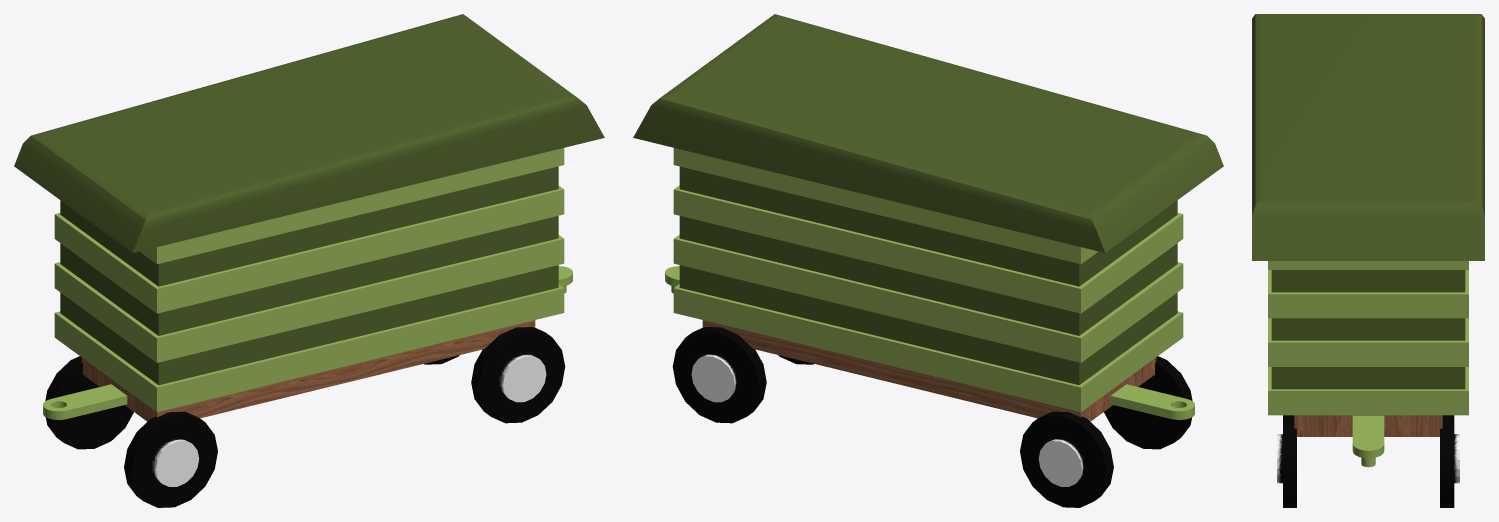
File: Cattle_Cart.fbx
3 views of the same model, side by side, from view 1: azimuth 30°, elevation 25°; view 2: azimuth 150°, elevation 25°; view 3: azimuth 270°, elevation 25° (orthographic).
Visible parts, largest first — view 1: Cattle_Cart_Roof1, Cattle_Cart_Walls1, Cattle_Cart_Wheel2, Cattle_Cart_Wheel3, Cart, Cattle_Cart_Wheel1; view 2: Cattle_Cart_Roof1, Cattle_Cart_Walls1, Cattle_Cart_Wheel1, Cattle_Cart_Wheel4, Cart, Cattle_Cart_Wheel2; view 3: Cattle_Cart_Roof1, Cattle_Cart_Walls1, Cart, Cattle_Cart_Wheel4, Cattle_Cart_Wheel3.
Part boxes in pixels (x1,y1,x2,y2): Cattle_Cart_Roof1: [14, 14, 604, 385]; Cattle_Cart_Walls1: [43, 148, 572, 419]; Cattle_Cart_Wheel2: [124, 411, 217, 507]; Cattle_Cart_Wheel3: [471, 327, 565, 423]; Cart: [81, 320, 535, 421]; Cattle_Cart_Wheel1: [45, 356, 133, 449]; Cattle_Cart_Roof1: [633, 14, 1223, 384]; Cattle_Cart_Walls1: [665, 148, 1194, 419]; Cattle_Cart_Wheel1: [1020, 411, 1113, 507]; Cattle_Cart_Wheel4: [672, 327, 766, 423]; Cart: [702, 320, 1156, 421]; Cattle_Cart_Wheel2: [1104, 356, 1192, 449]; Cattle_Cart_Roof1: [1252, 14, 1484, 389]; Cattle_Cart_Walls1: [1268, 261, 1468, 467]; Cart: [1294, 415, 1442, 436]; Cattle_Cart_Wheel4: [1440, 415, 1459, 507]; Cattle_Cart_Wheel3: [1277, 415, 1296, 507].
Bounding box in the file's own units: 9.71 × 5.75 × 3.79.
